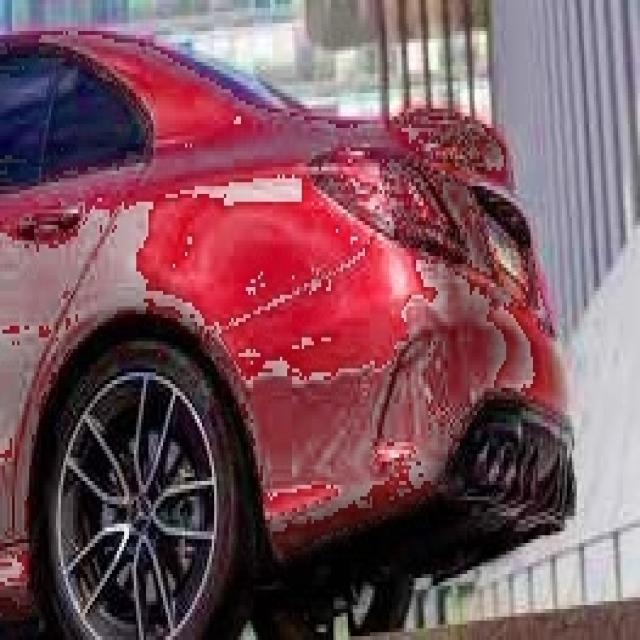maroon: (5, 19, 577, 602)
